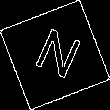N_SW: (26, 24, 84, 86)
